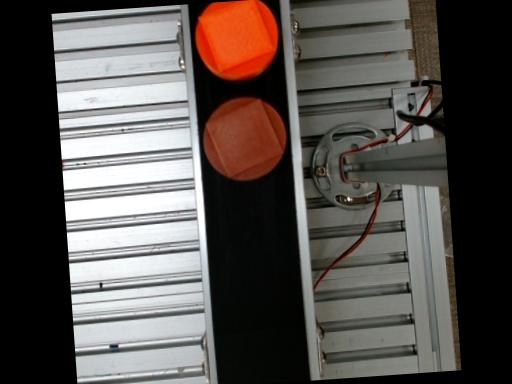Square: (205, 97, 283, 178), (198, 0, 275, 71)
